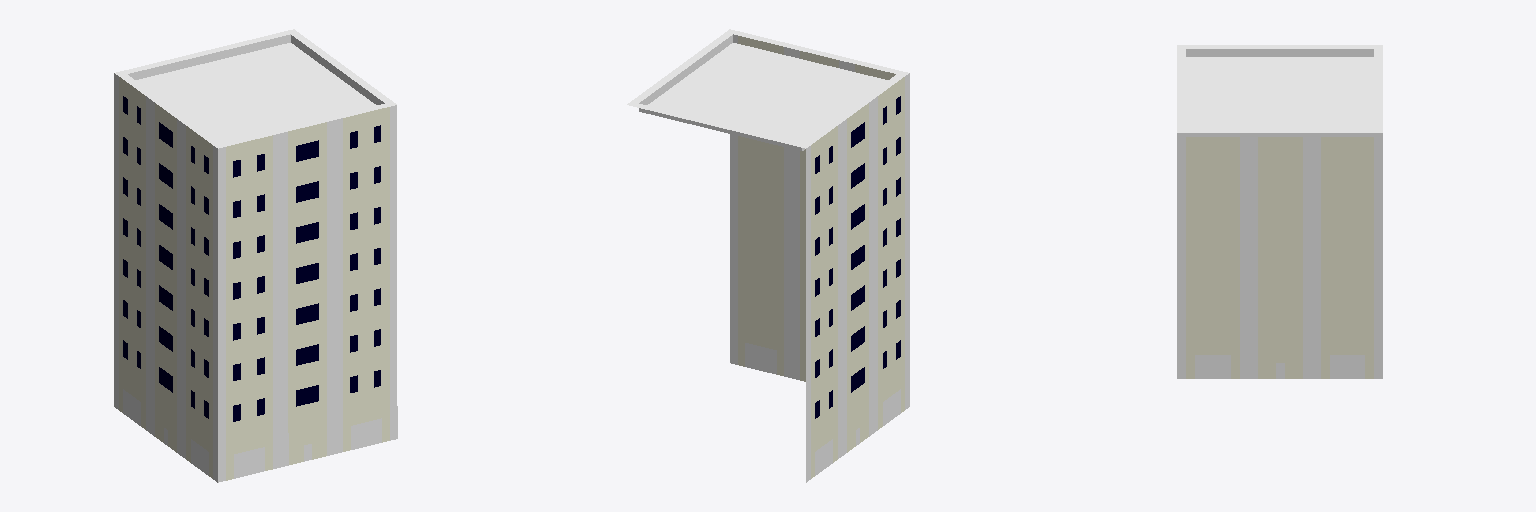
File: NormalBuilding2.obj
3 views of the same model, side by side, from view 1: azimuth 30°, elevation 25°; view 2: azimuth 150°, elevation 25°; view 3: azimuth 270°, elevation 25° (orthographic).
Parts seen in each view (by area): view 1: NormalBuilding2; view 2: NormalBuilding2; view 3: NormalBuilding2.
Boxes of the visible parts, x1,y1,x2,y2 form: NormalBuilding2: [114, 29, 397, 482]; NormalBuilding2: [627, 29, 909, 482]; NormalBuilding2: [1177, 45, 1382, 378].
Bounding box in the file's own units: 23.08 × 41 × 23.01.